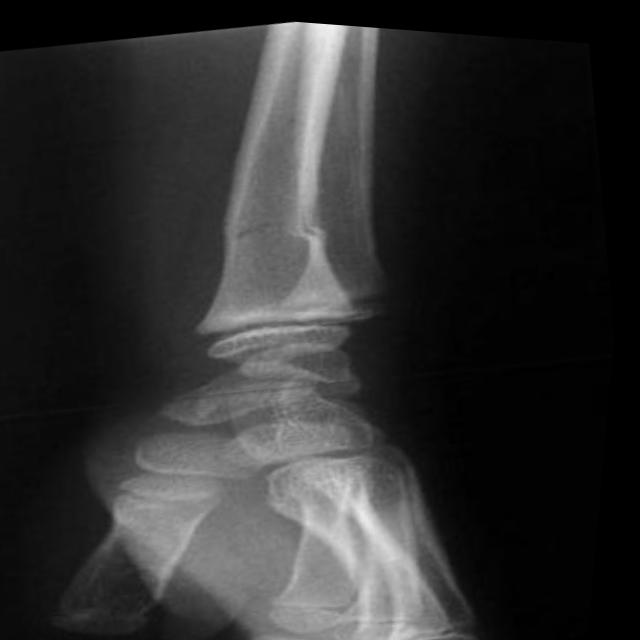fracture: (205, 186, 357, 261)
